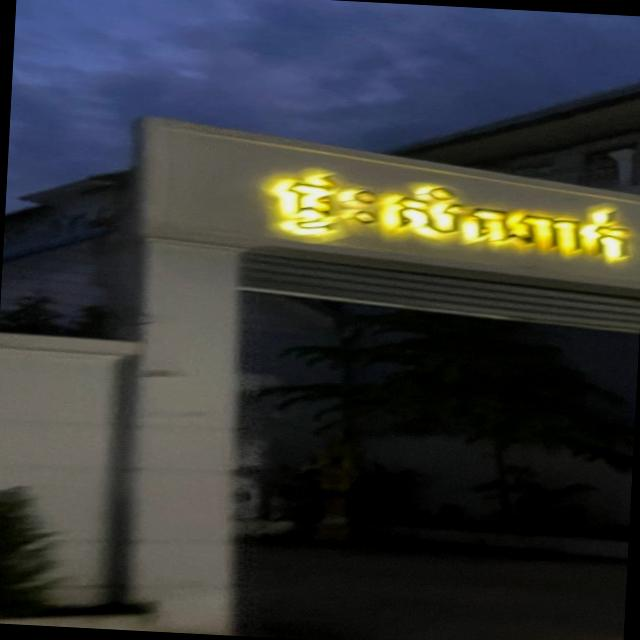Yolov11_80vkh: (256, 155, 638, 277)
